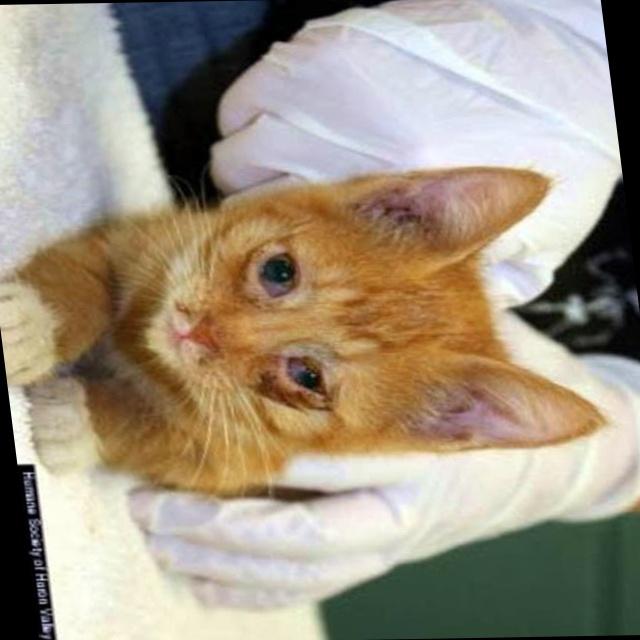eye_infection: (251, 249, 305, 306), (279, 356, 327, 413)
